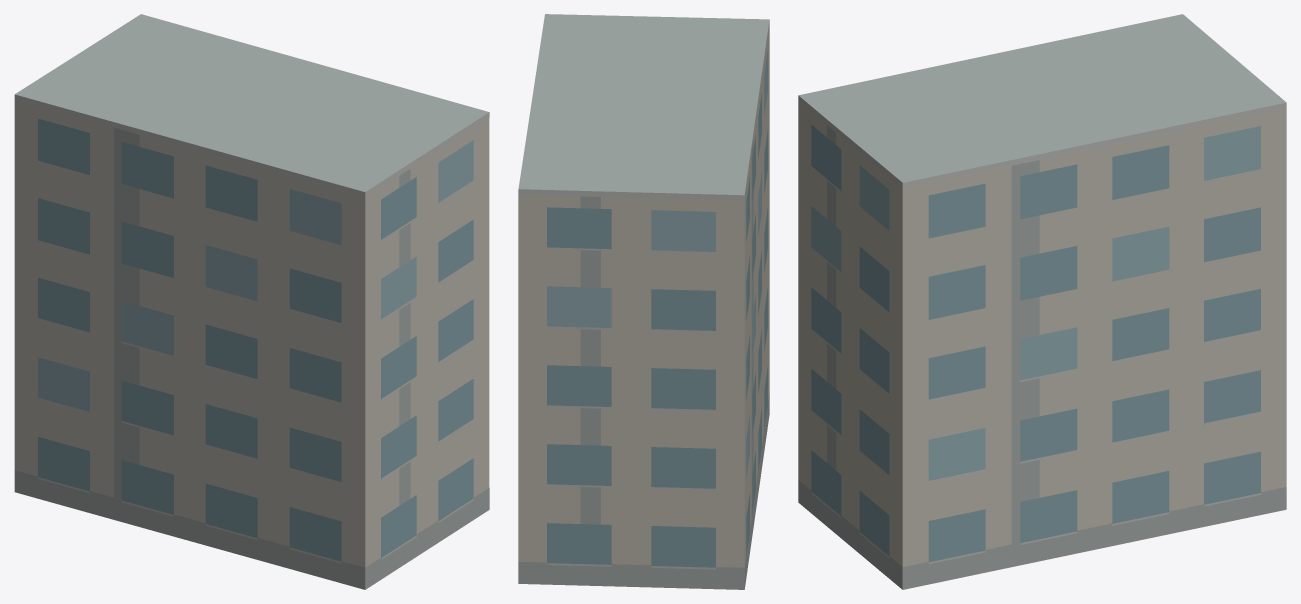
File: survey-upis-32703240.glb
3 views of the same model, side by side, from view 1: azimuth 30°, elevation 25°; view 2: azimuth 150°, elevation 25°; view 3: azimuth 270°, elevation 25° (orthographic). The views are drawn at different scales.
Parts seen in each view (by area): view 1: survey-upis-32703240.tmp; view 2: survey-upis-32703240.tmp; view 3: survey-upis-32703240.tmp.
Boxes of the visible parts, bbox=[...] form: survey-upis-32703240.tmp: bbox=[14, 14, 489, 589]; survey-upis-32703240.tmp: bbox=[518, 14, 769, 589]; survey-upis-32703240.tmp: bbox=[798, 14, 1286, 589].
Size of the model in its own units: 15.31 by 17.2 by 18.71.
